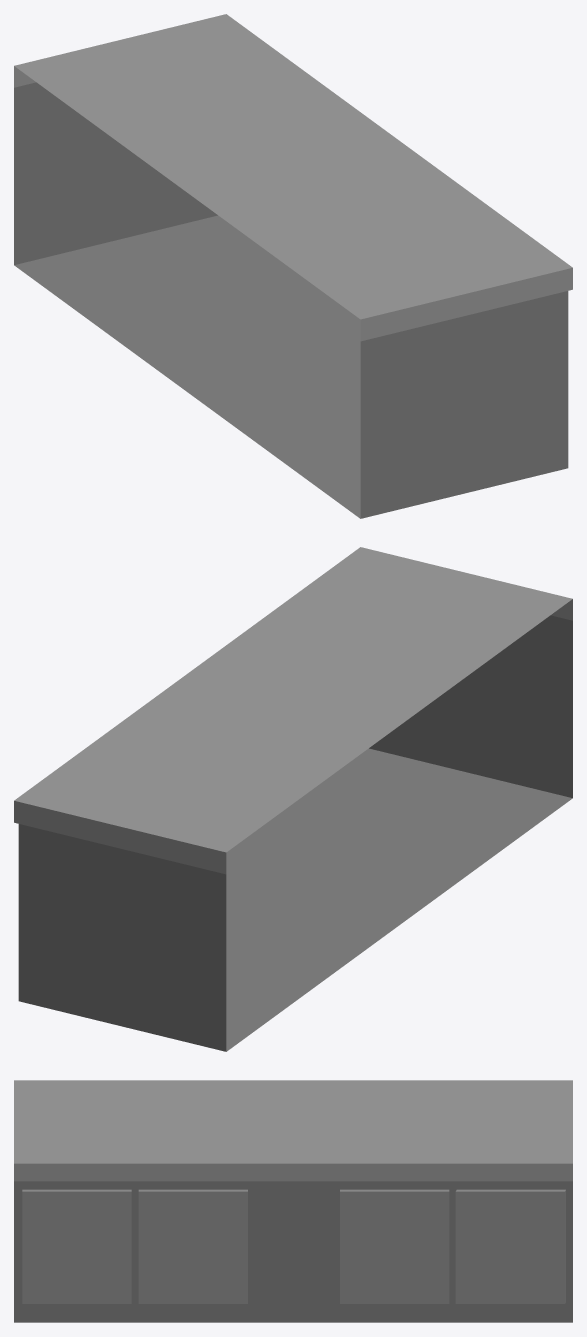
Rendered from table_G.FBX.
The picture shows the model from 3 angles, top to bottom: view 1: azimuth 30°, elevation 25°; view 2: azimuth 150°, elevation 25°; view 3: azimuth 270°, elevation 25°; orthographic projection. The views are drawn at different scales.
Parts seen in each view (by area): view 1: table_G; view 2: table_G; view 3: table_G.
Boxes of the visible parts, left/top/right/bottom form: table_G: left=14, top=14, right=572, bottom=518; table_G: left=14, top=547, right=572, bottom=1051; table_G: left=14, top=1080, right=572, bottom=1322.
Size of the model in its own units: 58.91 by 52.85 by 166.
